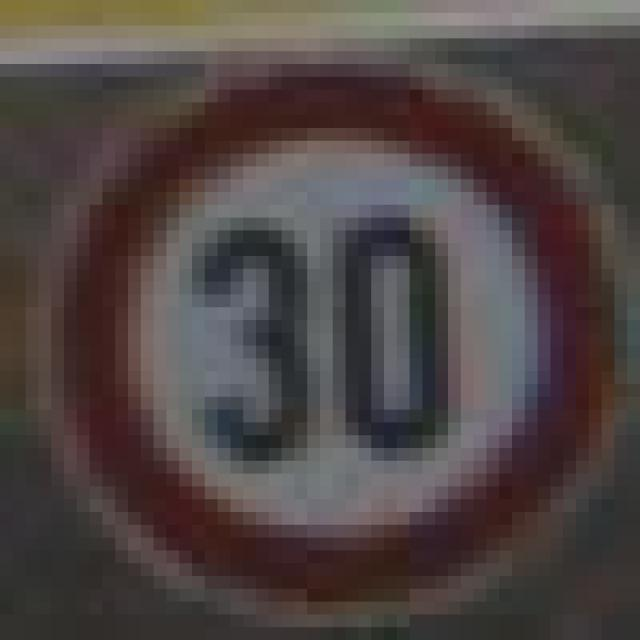SPEED_LIMIT_30: (13, 39, 614, 602)
